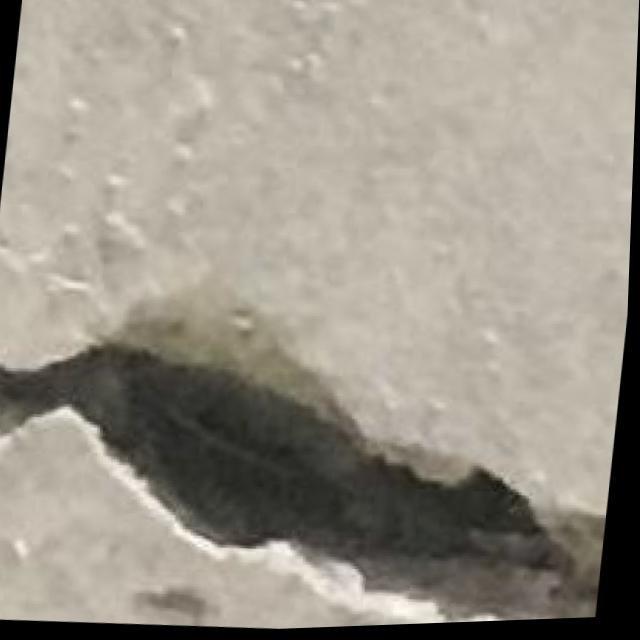Crack: (0, 307, 628, 640)
